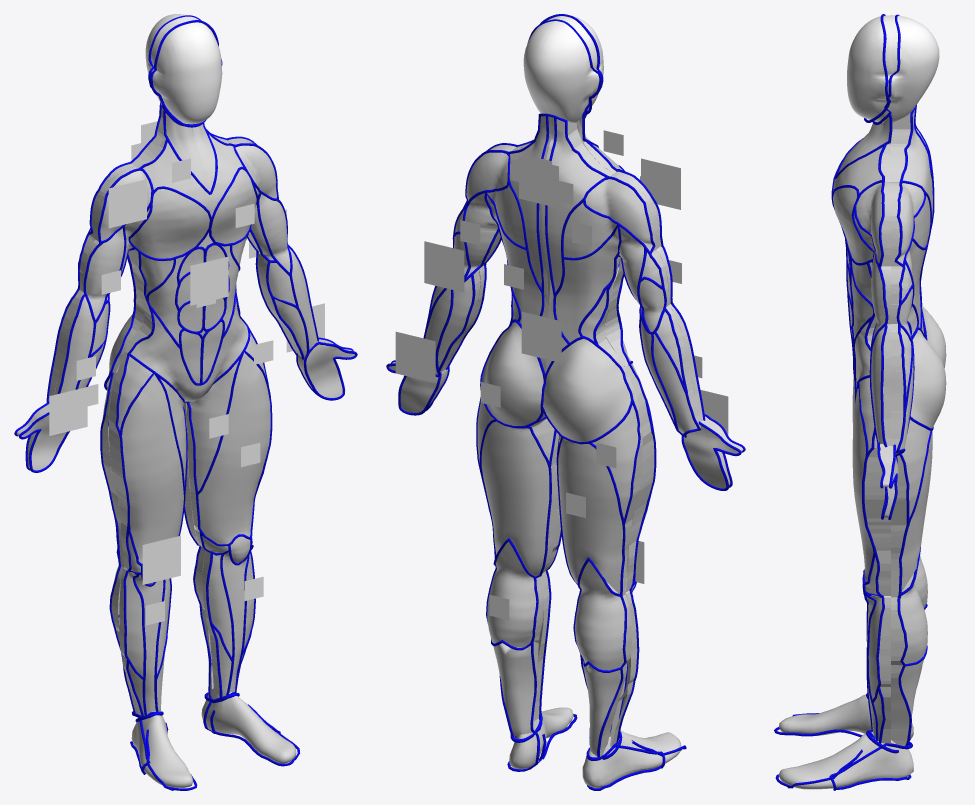
The model's file is female_04.glb.
3 renders of one model, left to right at view 1: azimuth 30°, elevation 25°; view 2: azimuth 150°, elevation 25°; view 3: azimuth 270°, elevation 25°, orthographic. The views are drawn at different scales.
Visible parts, largest first — view 1: quadriceps_r, quadriceps_l, head, pelvis_f, chest_r, foot_l, abducter_l.001, trapecius_f, foot_r, neck_f2, forarm1_r, chest_l (+31 smaller); view 2: hamstring_l, hamstring_r, gluteus_r, head, trapecius_b, calves1_b_r, gluteus_l, calves1_b_l, latisimusDorsi_b_r, foot_r, calves2_b_l, deltoid_b_r (+36 smaller); view 3: head, foot_l, quadriceps_l, gluteus_l, hamstring_l, calves1_b_l, foot_r, trapecius_b, abducter_l, deltoid_f_l, forarm1_l, calves1_f_l (+32 smaller).
Boxes of the visible parts, <box> form: quadriceps_r: <box>109,374,183,563</box>; quadriceps_l: <box>190,352,270,544</box>; head: <box>145,14,222,124</box>; pelvis_f: <box>125,298,248,401</box>; chest_r: <box>130,189,209,258</box>; foot_l: <box>201,688,296,763</box>; abducter_l.001: <box>186,360,240,492</box>; trapecius_f: <box>136,134,242,216</box>; foot_r: <box>131,711,193,787</box>; neck_f2: <box>165,113,215,191</box>; forarm1_r: <box>54,292,93,394</box>; chest_l: <box>211,169,256,243</box>; hamstring_l: <box>481,421,558,576</box>; hamstring_r: <box>558,438,632,595</box>; gluteus_r: <box>543,338,634,441</box>; head: <box>523,16,603,122</box>; trapecius_b: <box>509,116,613,291</box>; calves1_b_r: <box>574,561,631,670</box>; gluteus_l: <box>482,322,543,425</box>; calves1_b_l: <box>487,541,543,647</box>; latisimusDorsi_b_r: <box>555,227,619,342</box>; foot_r: <box>582,730,681,788</box>; calves2_b_l: <box>493,641,538,736</box>; deltoid_b_r: <box>585,174,656,251</box>; head: <box>847,15,939,122</box>; foot_l: <box>779,731,913,789</box>; quadriceps_l: <box>852,388,890,581</box>; gluteus_l: <box>910,330,946,428</box>; hamstring_l: <box>891,431,932,597</box>; calves1_b_l: <box>891,573,927,665</box>; foot_r: <box>779,694,913,738</box>; trapecius_b: <box>891,110,932,217</box>; abducter_l: <box>891,419,930,525</box>; deltoid_f_l: <box>856,182,890,266</box>; forarm1_l: <box>871,324,890,445</box>; calves1_f_l: <box>868,595,890,699</box>.
Bounding box in the file's own units: 0.8861 × 1.8 × 0.4122.
